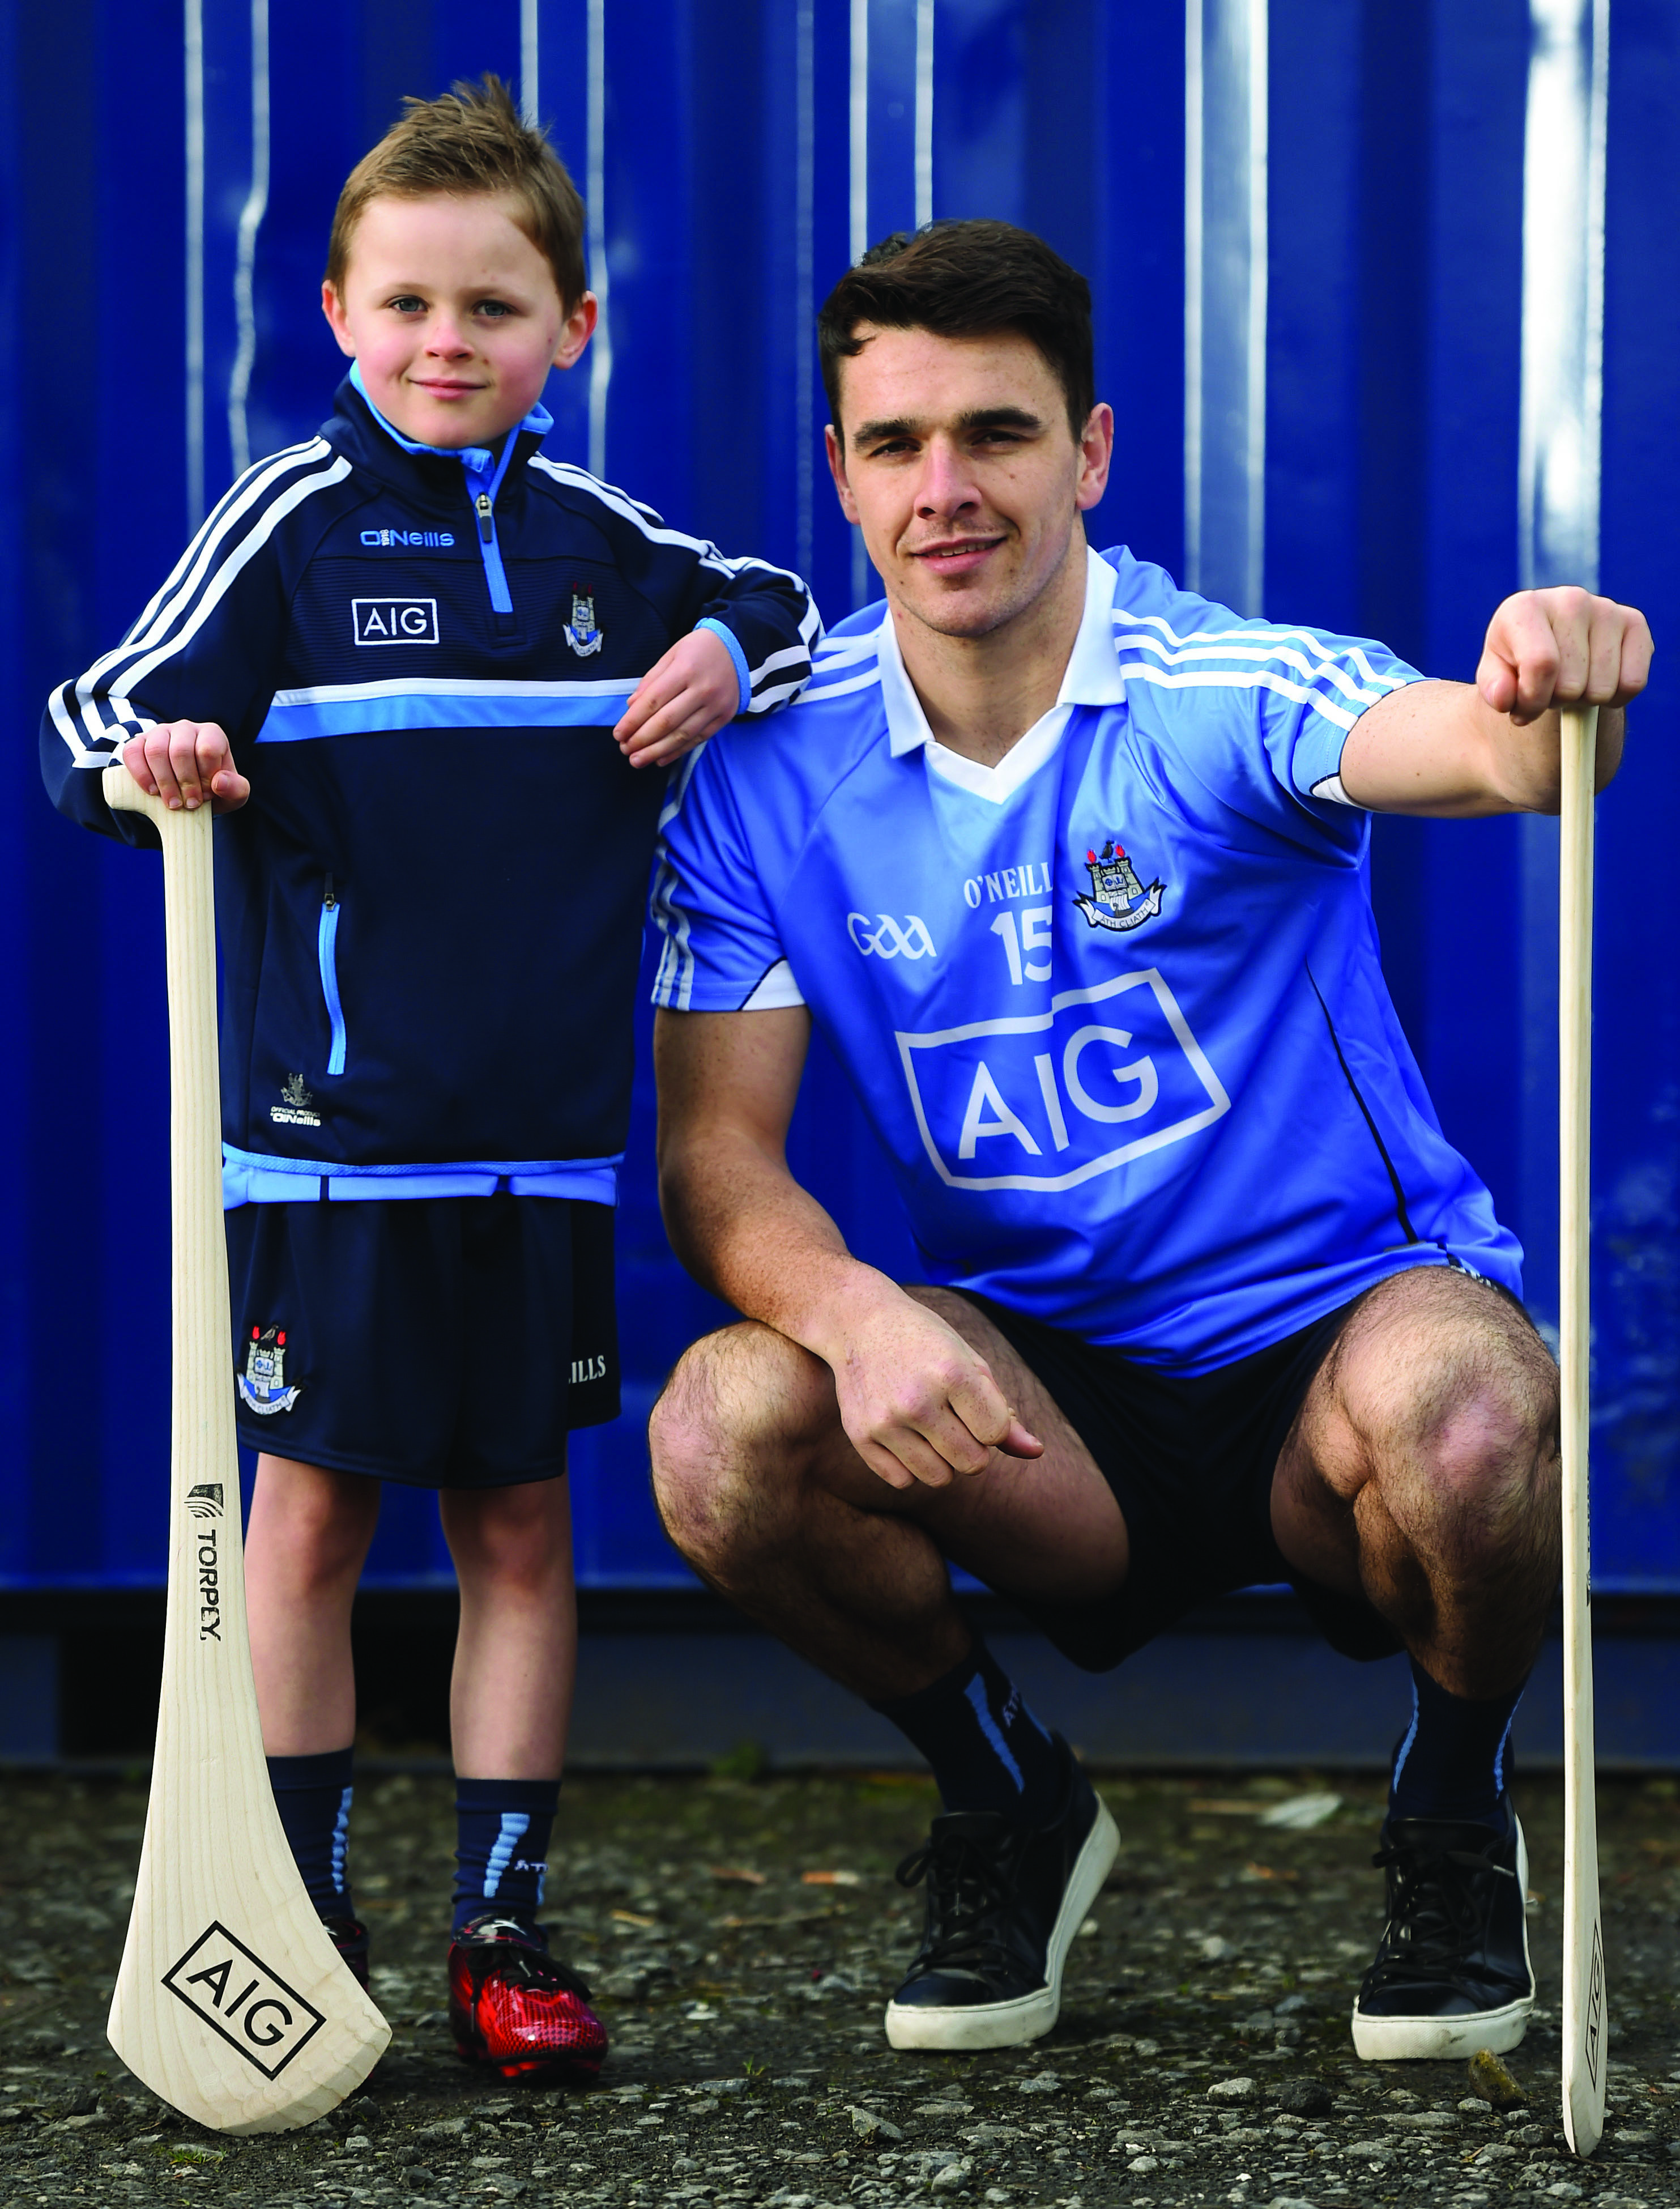player: (650, 194, 1549, 2002), (194, 124, 650, 1981)
